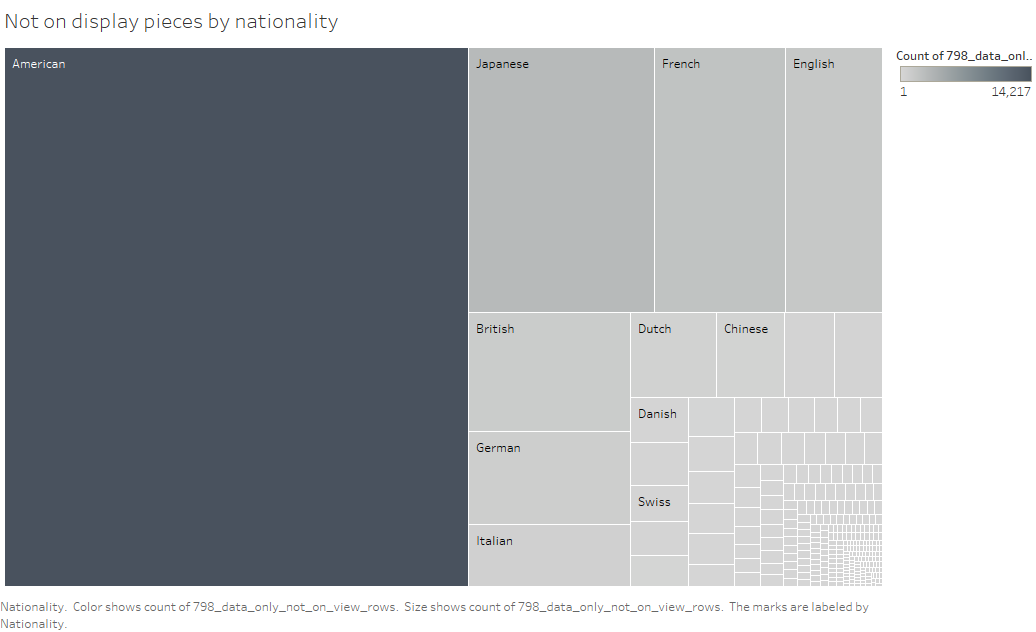

The dashboard page shown, as its layout file describes it:
{"tool":"tableau","page":{"name":"Dashboard 1","canvas":[1000,800],"ordinal":0},"visuals":[{"type":"worksheet","title":"Sheet 2","mark":"Automatic","rows":["798!data!only!not!on!view!rows_52761707DF0A46CA932B8A59ADC1F"],"cols":["date_acquired"],"box":[8,8,984,784]}]}

Visuals, with their boxes on the page's 1000x800 design canvas (x1, y1, x2, y2). These are canvas units, not pixel positions in the 1036x632 screenshot, which may show the page scaled, cropped or inside an application window:
"Sheet 2" worksheet: box(8, 8, 992, 792)
